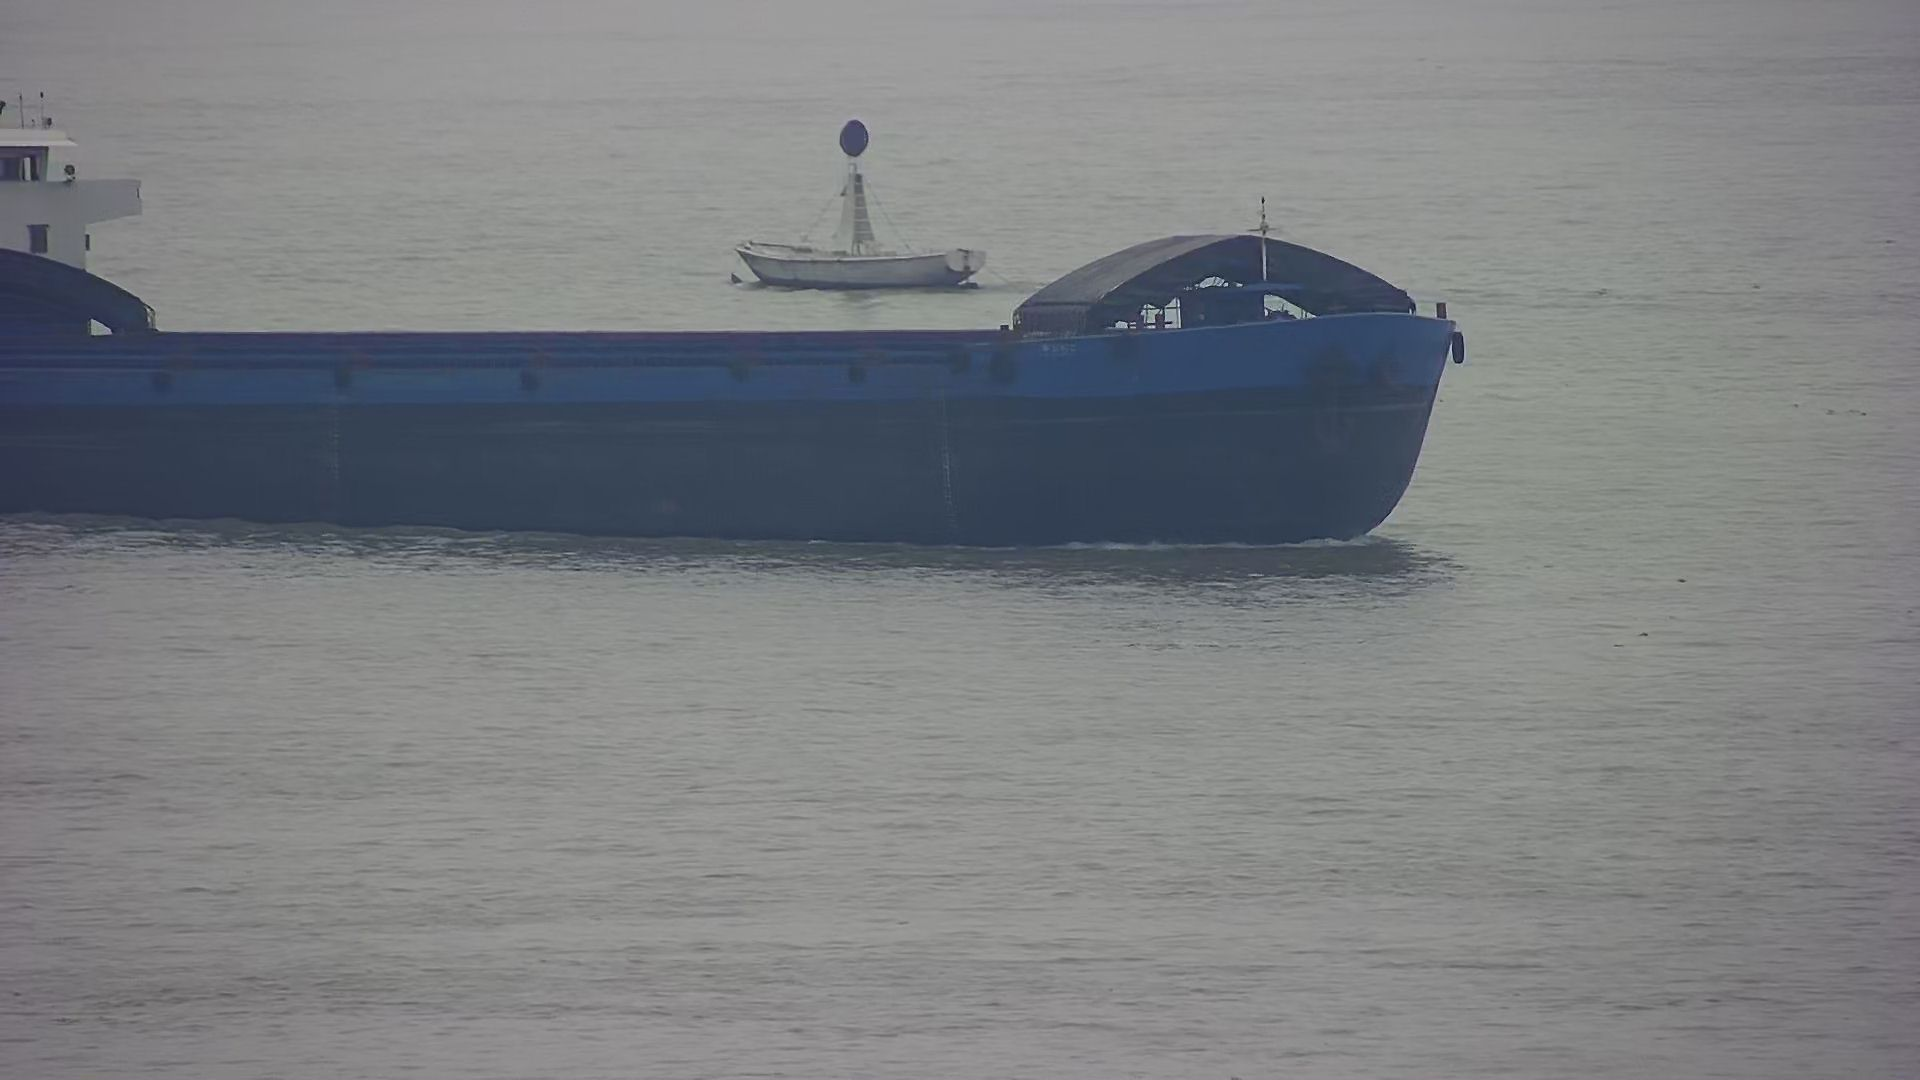boat: (735, 117, 992, 287)
ship: (1, 80, 1469, 547)
